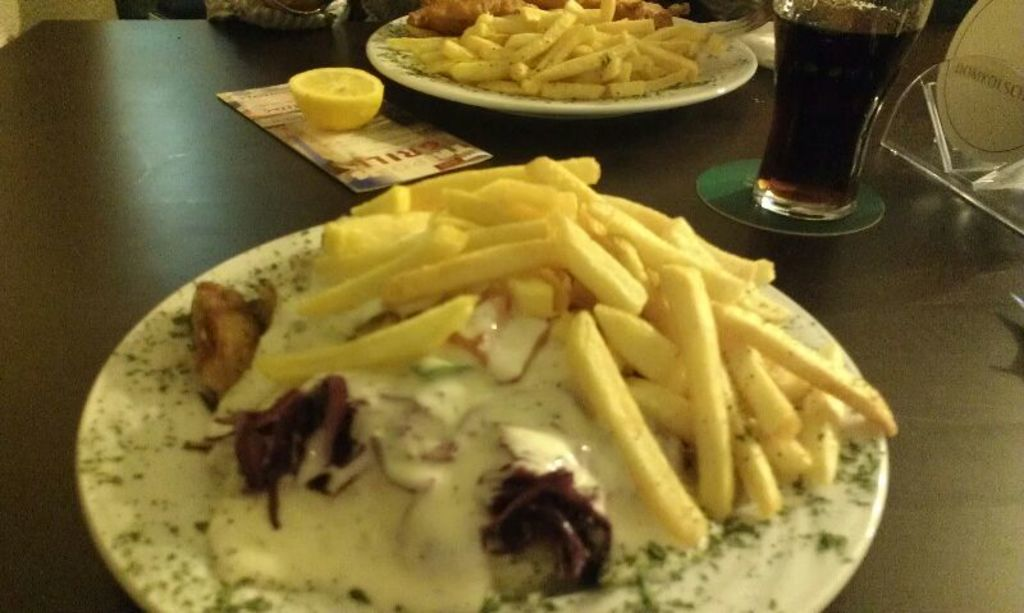French fries: (262, 152, 899, 547), (385, 0, 728, 101)
